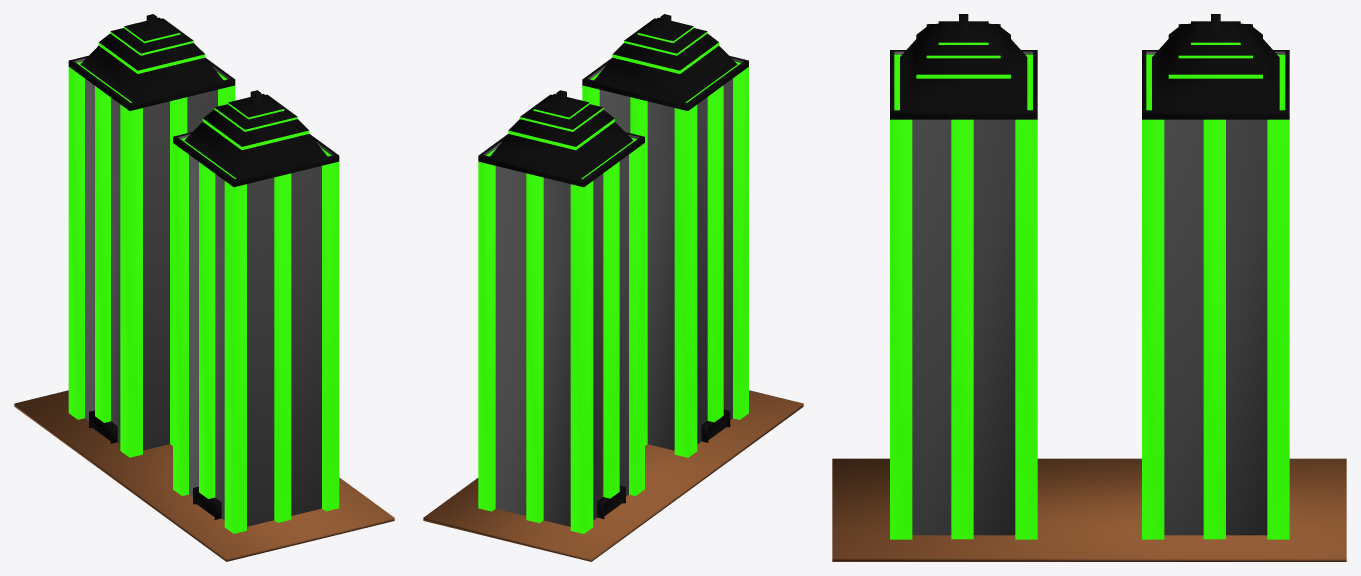
The model's file is building4.glb.
3 renders of one model, left to right at view 1: azimuth 30°, elevation 25°; view 2: azimuth 150°, elevation 25°; view 3: azimuth 270°, elevation 25°, orthographic. The views are drawn at different scales.
Parts seen in each view (by area): view 1: Smaller Twin Building; view 2: Smaller Twin Building; view 3: Smaller Twin Building.
Part boxes in pixels (x1,y1,x2,y2): Smaller Twin Building: (14,14,394,561); Smaller Twin Building: (423,14,803,561); Smaller Twin Building: (832,14,1346,561).
Bounding box in the file's own units: 31.02 × 72.13 × 67.76.
